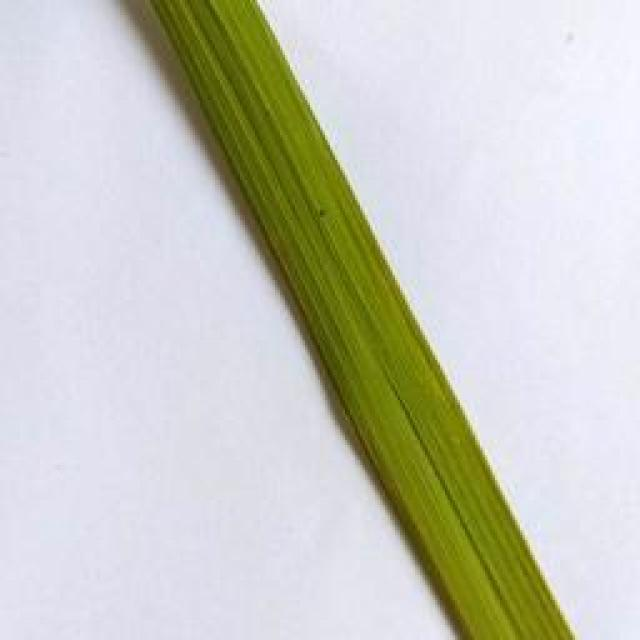Healthy-Plant: (139, 0, 574, 640)
